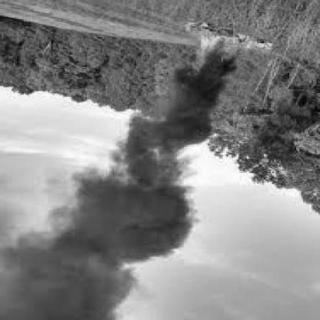Fire: (191, 29, 255, 77)
Smoke: (3, 76, 230, 320)
